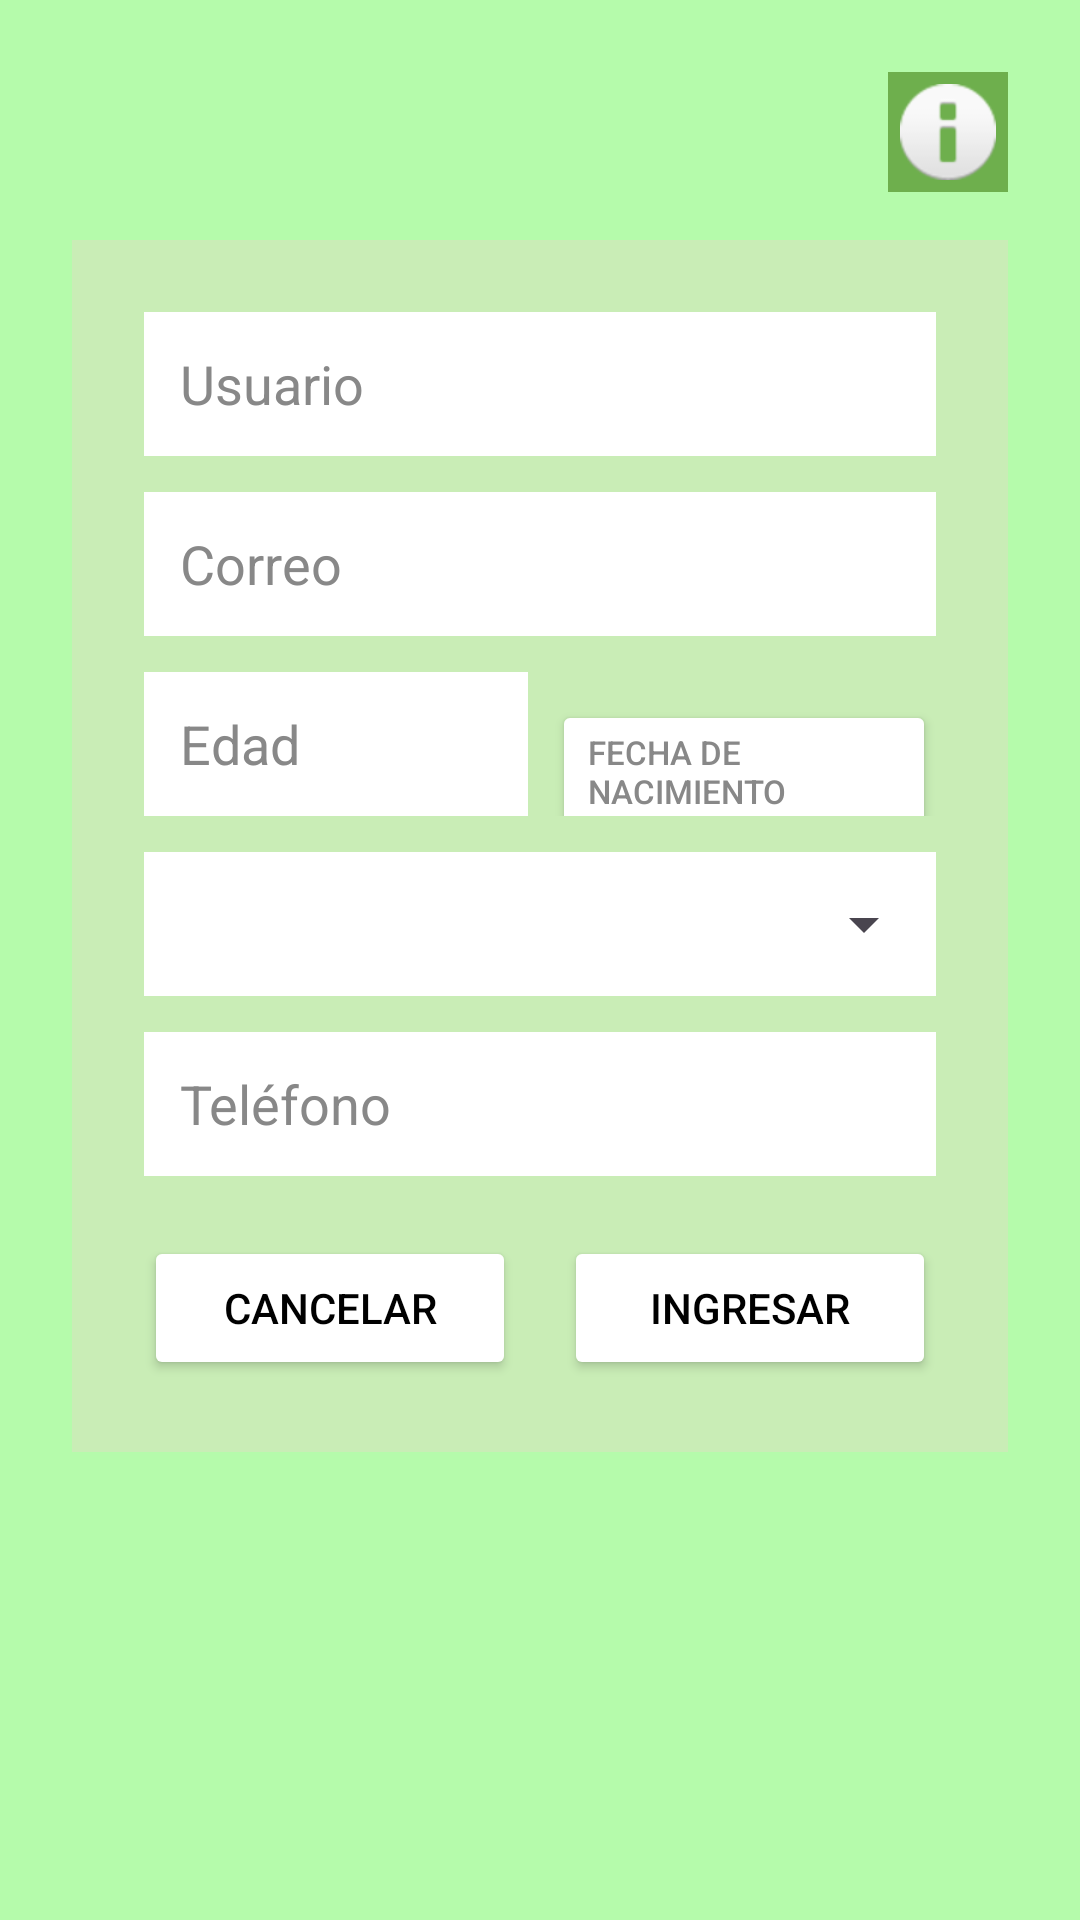

Named icons in this screenshot (1080×1920) and their bounding boxes, {"left": x1, "top": y1, "right": x2, "bottom": y2}:
Información: {"left": 888, "top": 72, "right": 1008, "bottom": 192}
